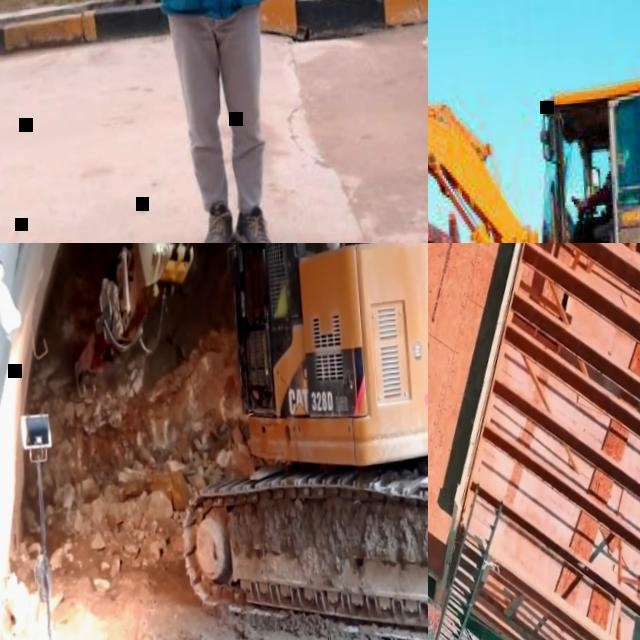NO-Safety Vest: (602, 169, 617, 216)
Person: (36, 0, 369, 243), (565, 149, 634, 243), (256, 264, 298, 394)
Safety Vest: (275, 286, 289, 315)
machinery: (47, 243, 428, 640), (428, 0, 640, 243), (428, 14, 482, 243)
